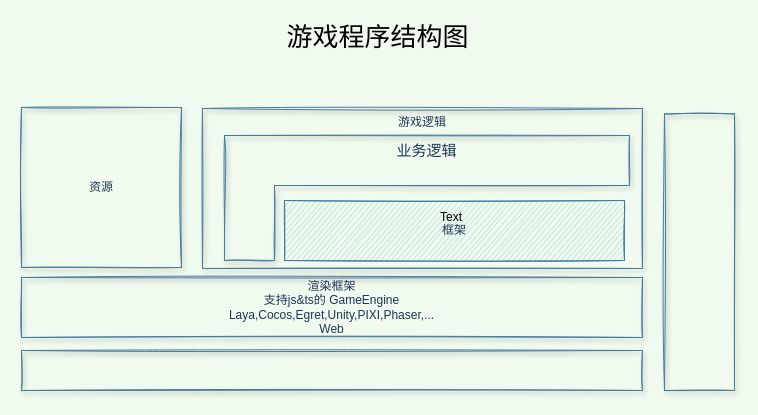
The diagram is 758 pixels wide and 415 high, and some of its shapes have lost their labels. The shapes that lost their labels are listed below. From the top down, each one's centre as x and y in pixels, then its label:
At (x=700, y=253): "开发工具 配置处理工具 协议处理工具 自动化部署工具".
At (x=332, y=372): "底层平台: 小游戏，web，native...".
